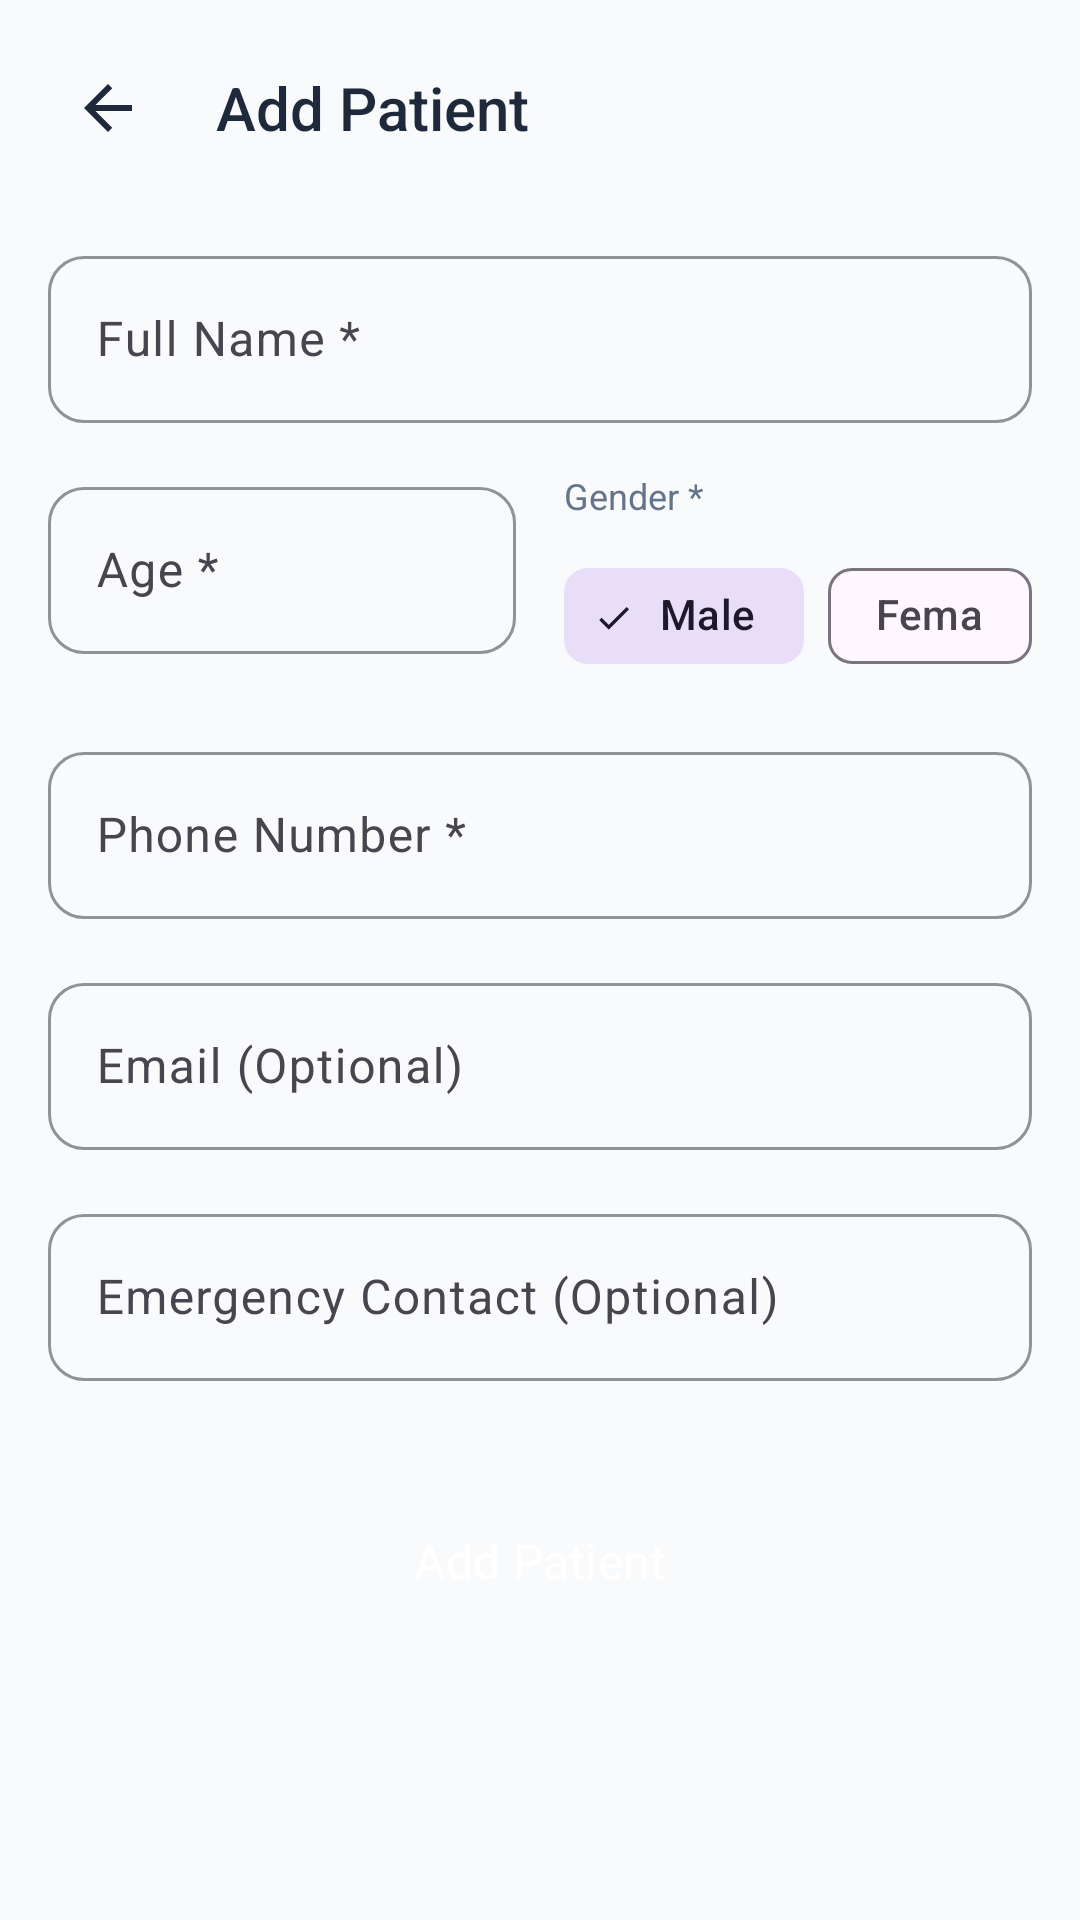

Point at icon controls on the screen. Image size 1080 x 1920, points as (x=x, y=y).
Back: (x=108, y=108)
